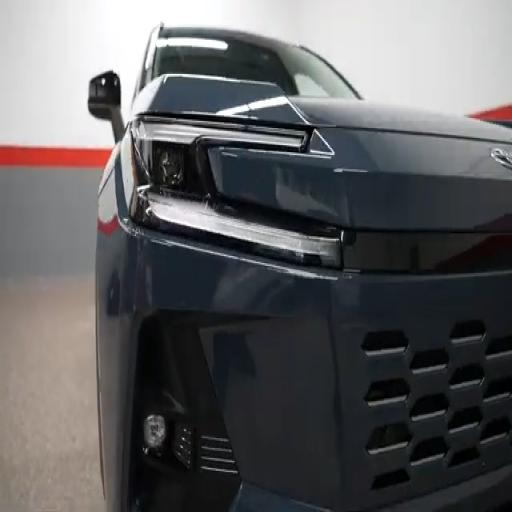bumper: (96, 215, 511, 510)
emblem: (491, 148, 511, 169)
fog_light: (157, 148, 184, 187), (144, 414, 167, 450)
grille: (362, 320, 511, 490)
headlight: (131, 119, 341, 267)
hood: (132, 76, 511, 143), (291, 97, 511, 142)
side_mirror: (88, 72, 124, 142)
windshield: (152, 36, 357, 99)
